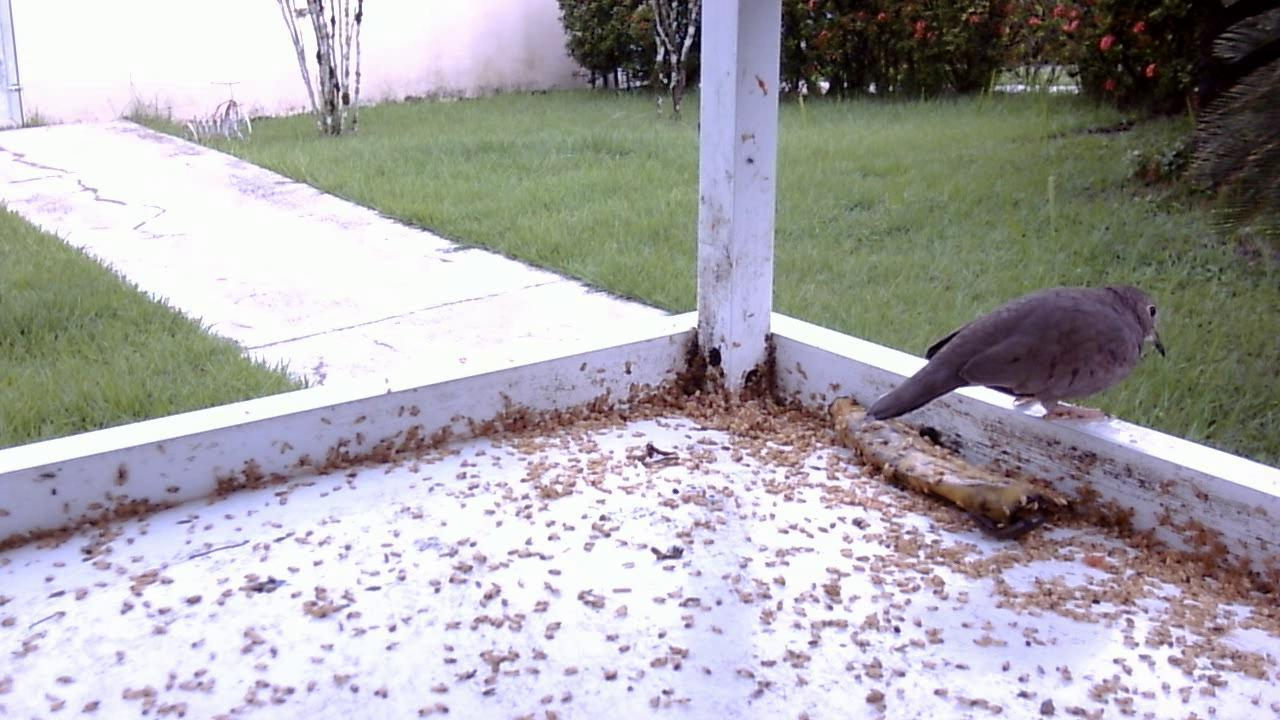rolinha: (859, 277, 1164, 437)
